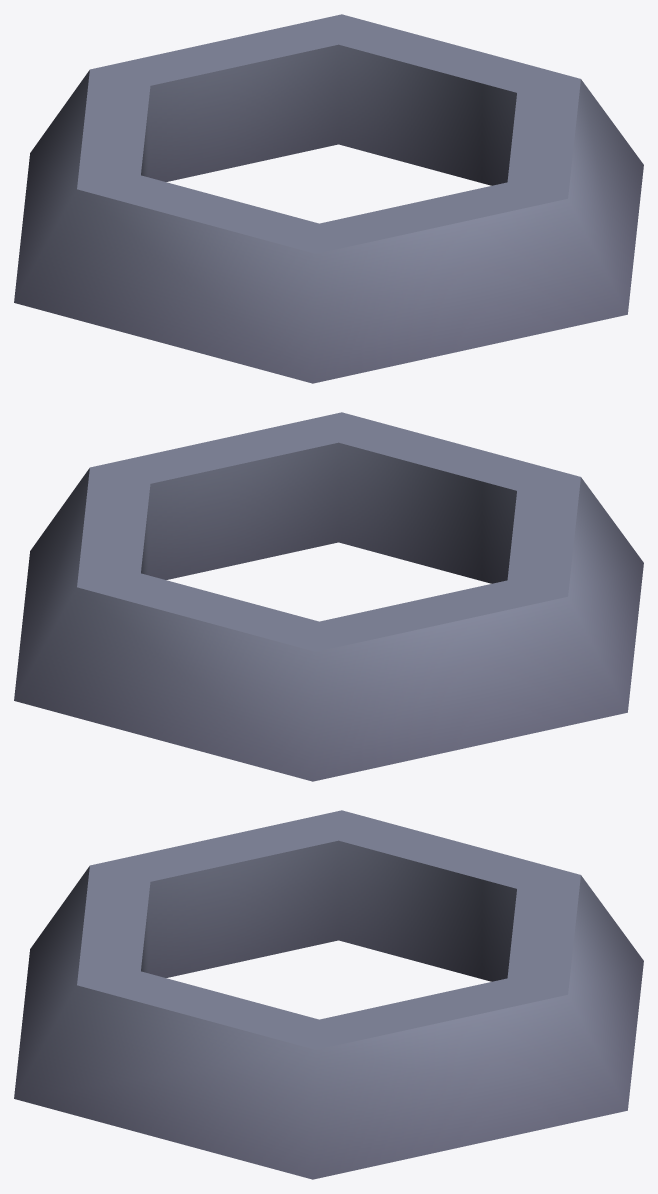
The model's file is n5_n5_n5_button-round_lev5.glb.
3 views of the same model, one above another, from view 1: azimuth 30°, elevation 25°; view 2: azimuth 150°, elevation 25°; view 3: azimuth 270°, elevation 25° (orthographic).
Visible parts, largest first — view 1: n5_n5_n5_button-round_lev5; view 2: n5_n5_n5_button-round_lev5; view 3: n5_n5_n5_button-round_lev5.
Boxes of the visible parts, bbox=[...] form: n5_n5_n5_button-round_lev5: bbox=[14, 14, 643, 383]; n5_n5_n5_button-round_lev5: bbox=[14, 412, 643, 781]; n5_n5_n5_button-round_lev5: bbox=[14, 810, 643, 1179].
Size of the model in its own units: 1.47 by 0.2287 by 1.31.
1 material, 1 textured.
